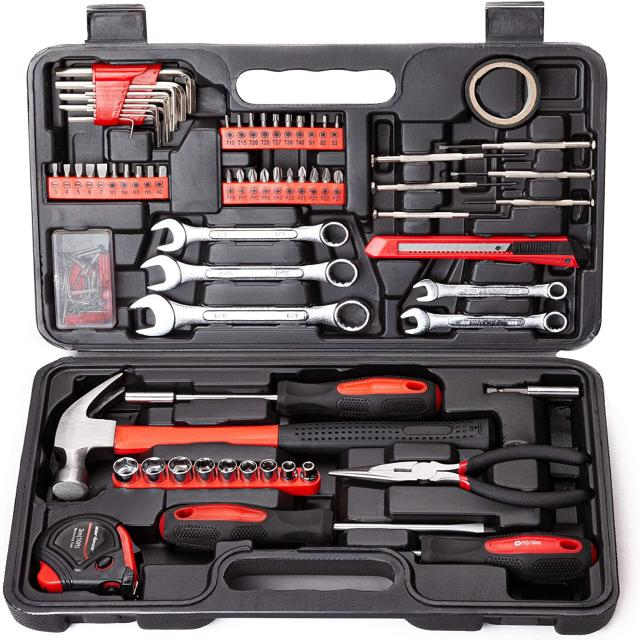Screwdriver: (160, 503, 496, 549), (121, 376, 445, 420), (421, 534, 597, 581)
